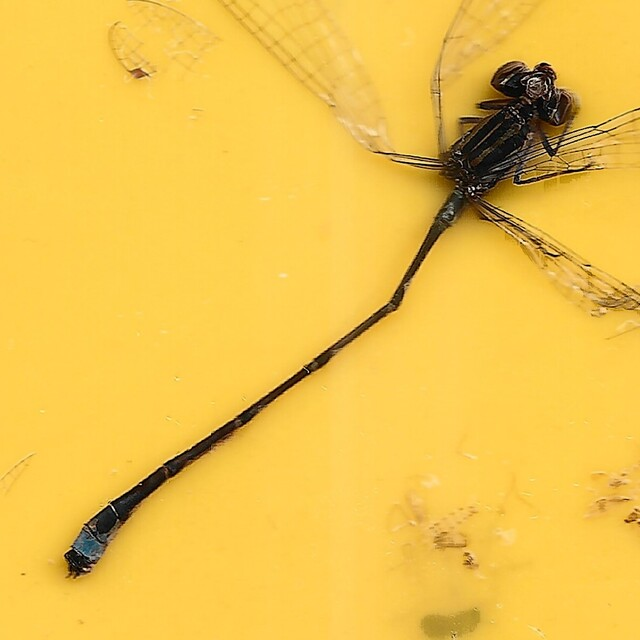Odonata: (59, 57, 581, 583)
